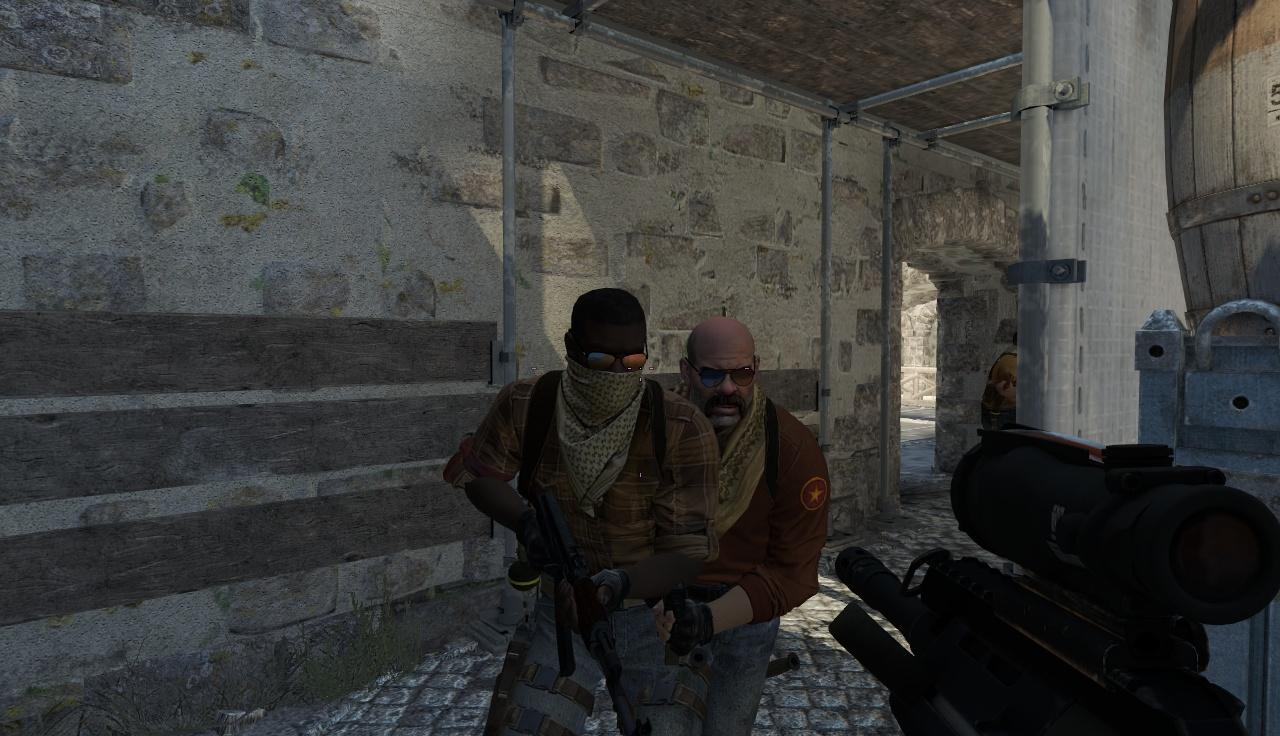rifle: (839, 421, 1280, 732)
tt: (468, 288, 816, 736)
tthead: (570, 289, 648, 386), (686, 319, 756, 426)
